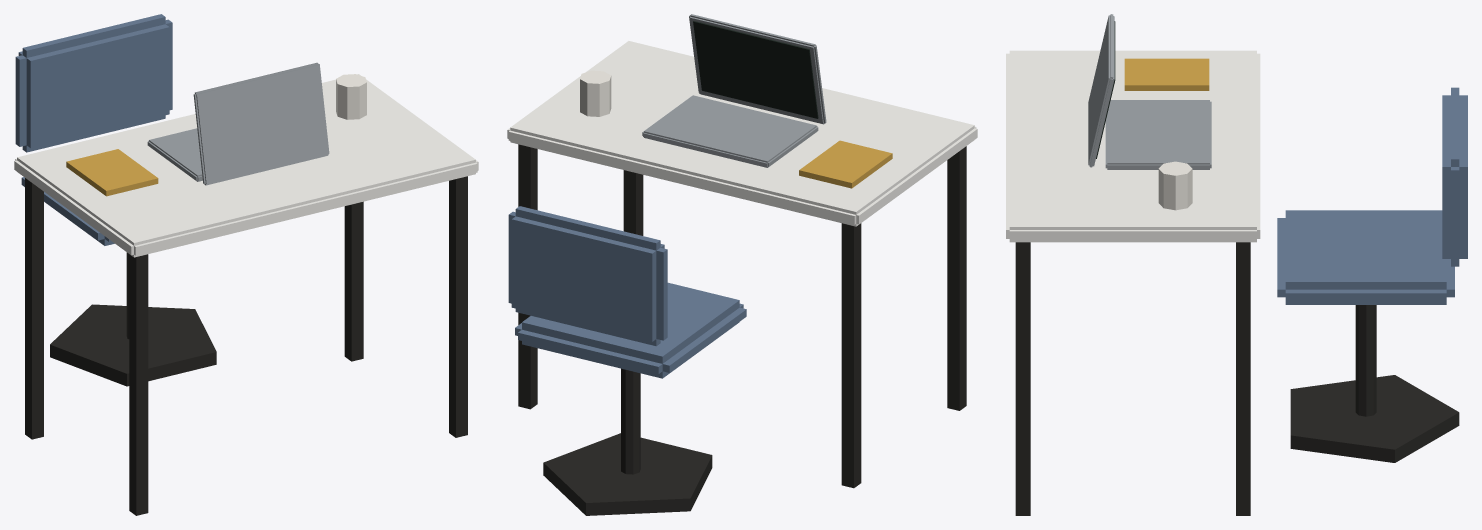
The model's file is desk_small.glb.
3 renders of one model, left to right at view 1: azimuth 30°, elevation 25°; view 2: azimuth 150°, elevation 25°; view 3: azimuth 270°, elevation 25°, orthographic. The views are drawn at different scales.
Parts seen in each view (by area): view 1: Top, Back, Lid, ChairBase, Leg, Leg.002, Leg.001, Leg.003, Notebook, LaptopBase, Mug, Seat; view 2: Top, Back, ChairBase, Seat, Screen, LaptopBase, Leg.001, Leg, Notebook, Leg.003, Lid, Post (+2 smaller); view 3: Top, Seat, ChairBase, LaptopBase, Back, Leg.002, Leg.003, Notebook, Post, Lid, Mug.
Boxes of the visible parts, x1,y1,x2,y2 form: Top: [14, 74, 478, 257]; Back: [15, 14, 172, 152]; Lid: [193, 62, 329, 185]; ChairBase: [50, 304, 216, 386]; Leg: [129, 254, 148, 515]; Leg.002: [449, 176, 467, 437]; Leg.001: [25, 178, 43, 439]; Leg.003: [344, 201, 363, 361]; Notebook: [66, 149, 158, 196]; LaptopBase: [147, 128, 202, 181]; Mug: [336, 74, 366, 119]; Seat: [21, 177, 114, 245]; Top: [507, 41, 977, 226]; Back: [508, 206, 667, 346]; ChairBase: [543, 433, 712, 515]; Seat: [515, 282, 746, 378]; Screen: [693, 21, 818, 118]; LaptopBase: [642, 95, 818, 167]; Leg.001: [841, 223, 861, 488]; Leg: [947, 146, 966, 410]; Notebook: [799, 140, 892, 188]; Leg.003: [518, 144, 537, 409]; Lid: [689, 14, 826, 124]; Post: [621, 368, 640, 474]; Top: [1006, 50, 1260, 242]; Seat: [1277, 210, 1454, 304]; ChairBase: [1290, 375, 1459, 462]; LaptopBase: [1105, 100, 1211, 169]; Back: [1442, 87, 1467, 266]; Leg.002: [1015, 242, 1030, 515]; Leg.003: [1236, 242, 1250, 515]; Notebook: [1124, 58, 1209, 90]; Post: [1355, 305, 1376, 416]; Lid: [1088, 14, 1114, 167]; Mug: [1158, 161, 1192, 210].
Bounding box in the file's own units: 1 × 1 × 1.09.
